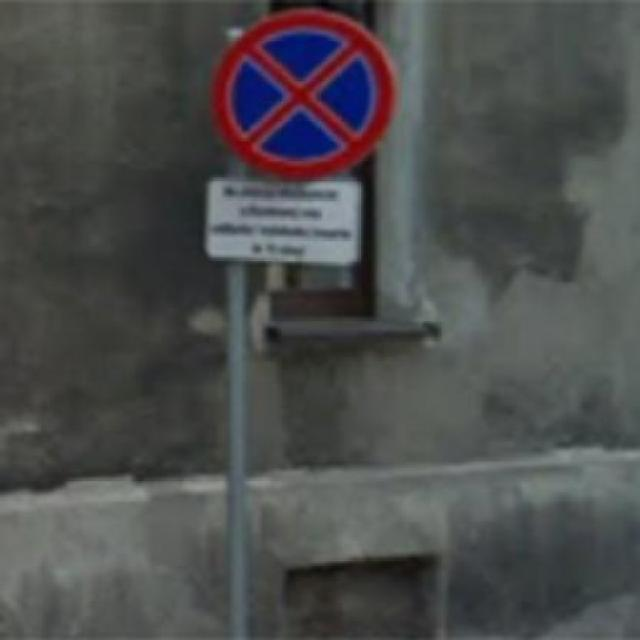Zakaz zatrzymywania sie: (208, 4, 398, 182)
